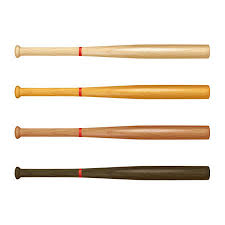bat: (14, 124, 211, 142), (13, 43, 211, 60), (14, 84, 211, 100), (14, 165, 211, 181)
